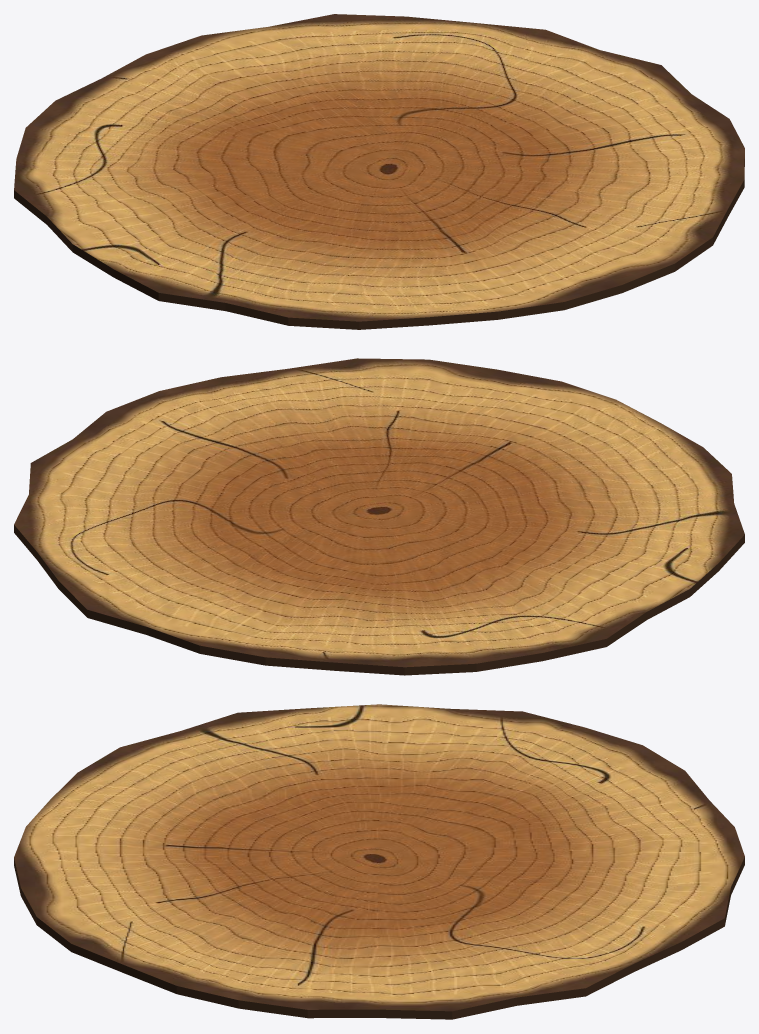
Rendered from endcap.glb.
3 renders of one model, top to bottom at view 1: azimuth 30°, elevation 25°; view 2: azimuth 150°, elevation 25°; view 3: azimuth 270°, elevation 25°, orthographic.
Parts seen in each view (by area): view 1: EndCapMesh; view 2: EndCapMesh; view 3: EndCapMesh.
Boxes of the visible parts, x1,y1,x2,y2 form: EndCapMesh: [14, 14, 744, 329]; EndCapMesh: [14, 358, 744, 675]; EndCapMesh: [14, 704, 744, 1019].
Bounding box in the file's own units: 1.98 × 0.029 × 1.99.
1 material, 1 textured.
